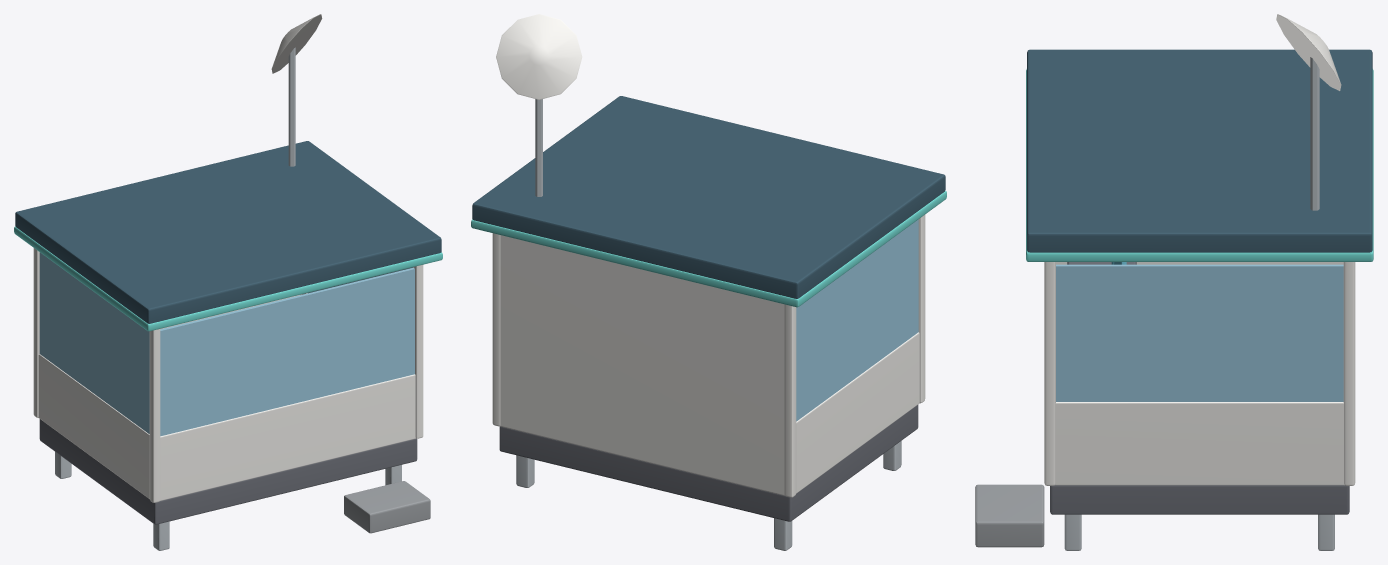
The model's file is ControlCabin.fbx.
3 renders of one model, left to right at view 1: azimuth 30°, elevation 25°; view 2: azimuth 150°, elevation 25°; view 3: azimuth 270°, elevation 25°, orthographic. The views are drawn at different scales.
Parts seen in each view (by area): view 1: ControlCabin; view 2: ControlCabin; view 3: ControlCabin.
Part boxes in pixels (<box>): ControlCabin: <box>14,14,442,550</box>; ControlCabin: <box>471,14,946,550</box>; ControlCabin: <box>975,14,1373,550</box>.
Bounding box in the file's own units: 3.82 × 5.1 × 3.46.
